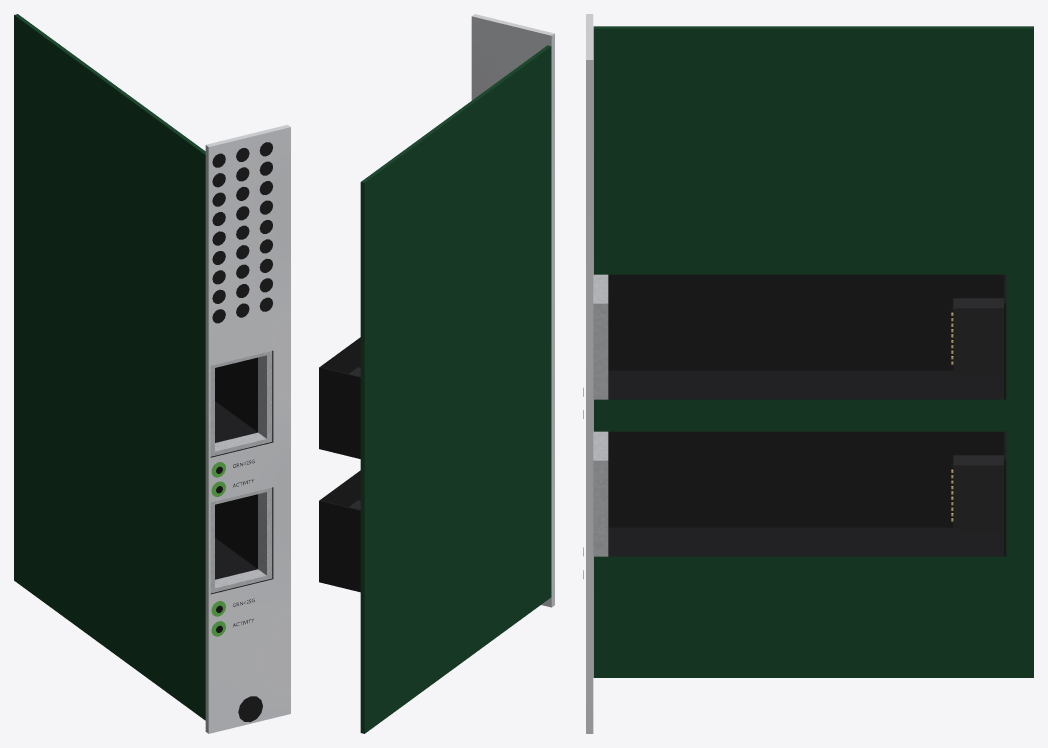
The model's file is E810-XXVDA2-FH.glb.
The picture shows the model from 3 angles, left to right: view 1: azimuth 30°, elevation 25°; view 2: azimuth 150°, elevation 25°; view 3: azimuth 270°, elevation 25°; orthographic projection. The views are drawn at different scales.
Parts seen in each view (by area): view 1: Card; view 2: Card; view 3: Card.
Part boxes in pixels (<box>): Card: <box>14,14,290,733</box>; Card: <box>319,14,554,733</box>; Card: <box>586,14,1033,733</box>.
Bounding box in the file's own units: 0.0146 × 0.0996 × 0.0604.
Materials: 9 (2 with a texture image).
